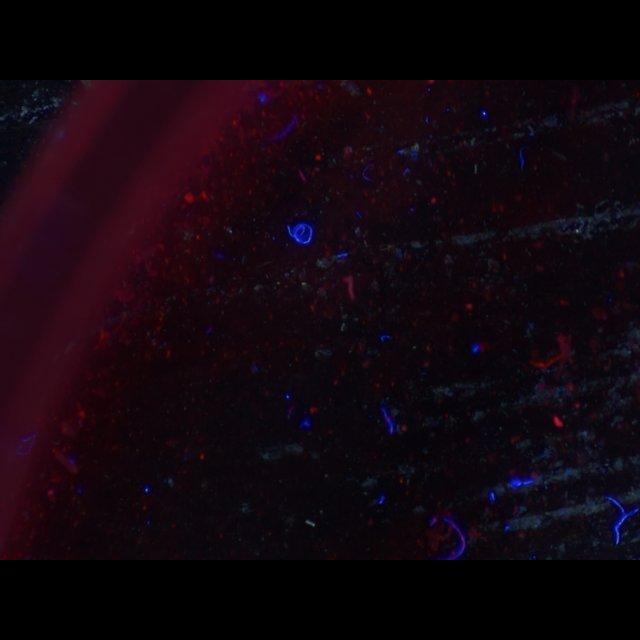microbeads: (306, 519, 315, 526)
